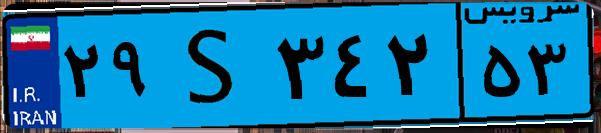2: (385, 28, 445, 110), (57, 26, 110, 100)
3: (270, 28, 330, 110), (525, 38, 570, 115)
4: (330, 28, 385, 110)
5: (475, 38, 525, 113)
9: (110, 28, 158, 98)
S: (158, 12, 270, 120)
